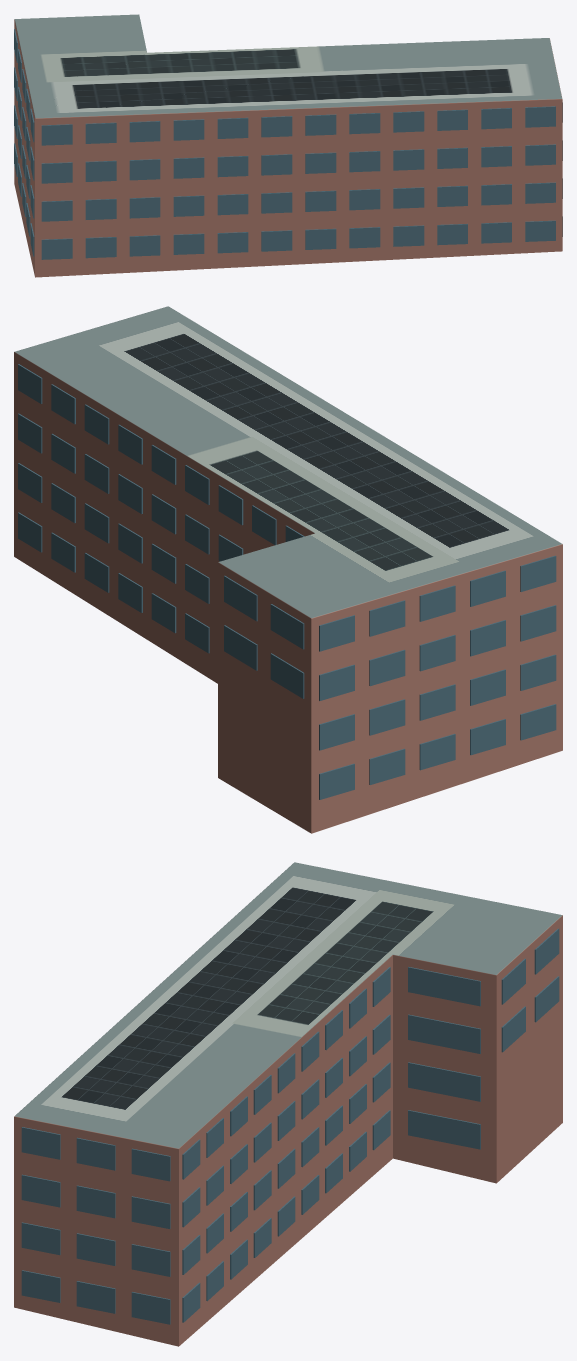
Rendered from intact.glb.
3 renders of one model, top to bottom at view 1: azimuth 30°, elevation 25°; view 2: azimuth 150°, elevation 25°; view 3: azimuth 270°, elevation 25°, orthographic. The views are drawn at different scales.
Visible parts, largest first — view 1: SM_468931907_Intact_00, SM_468931907_Intact_01; view 2: SM_468931907_Intact_00, SM_468931907_Intact_01; view 3: SM_468931907_Intact_00, SM_468931907_Intact_01.
Part boxes in pixels (x1=…): SM_468931907_Intact_00: x1=14, y1=14, x2=562, y2=277; SM_468931907_Intact_01: x1=14, y1=29, x2=562, y2=259; SM_468931907_Intact_00: x1=14, y1=306, x2=562, y2=833; SM_468931907_Intact_01: x1=18, y1=364, x2=556, y2=799; SM_468931907_Intact_00: x1=14, y1=862, x2=562, y2=1346; SM_468931907_Intact_01: x1=21, y1=928, x2=559, y2=1324.
Size of the model in its own units: 2.2 by 0.7459 by 1.78.
4 materials, 1 textured.
